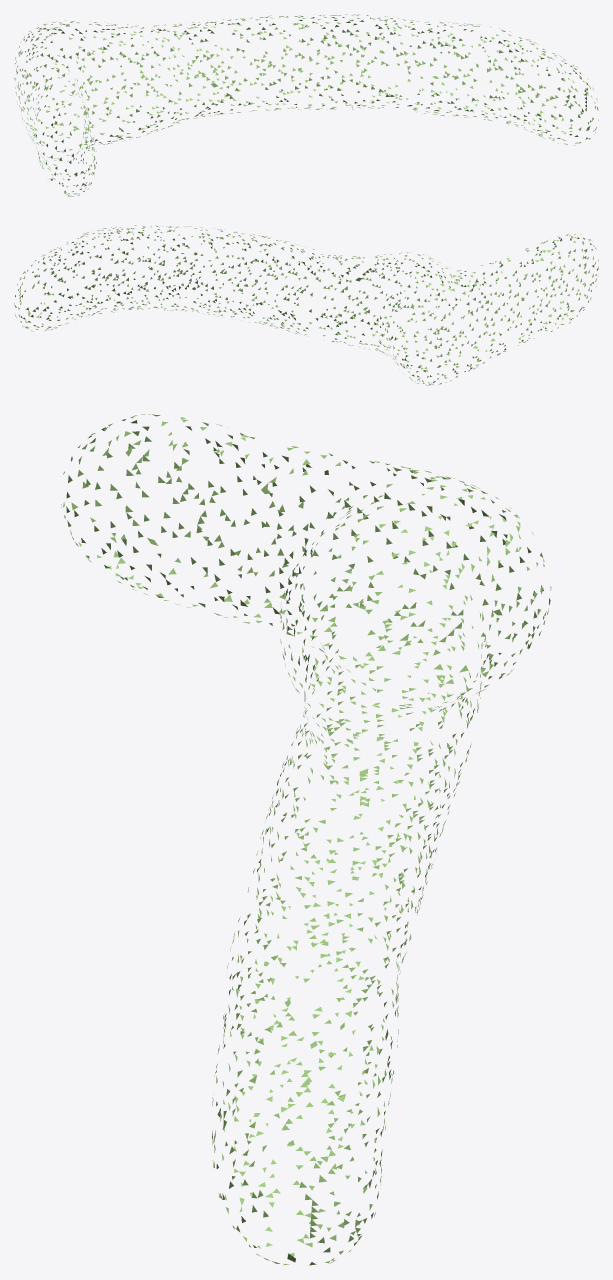
Rendered from morph_013.glb.
The picture shows the model from 3 angles, top to bottom: view 1: azimuth 30°, elevation 25°; view 2: azimuth 150°, elevation 25°; view 3: azimuth 270°, elevation 25°; orthographic projection. The views are drawn at different scales.
Size of the model in its own units: 112 by 37.92 by 45.6.
